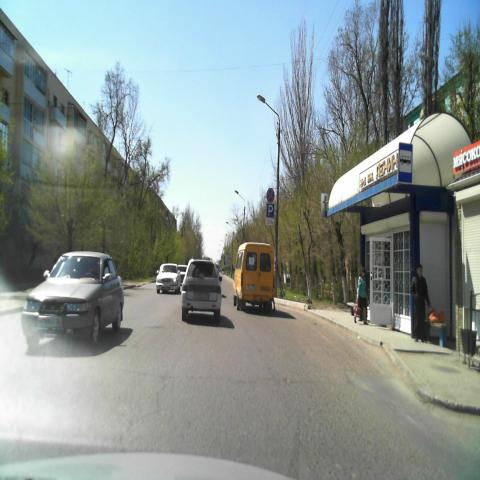3_27: (267, 188, 274, 203)
5_16: (398, 143, 413, 183)
6_4: (266, 204, 274, 217)
